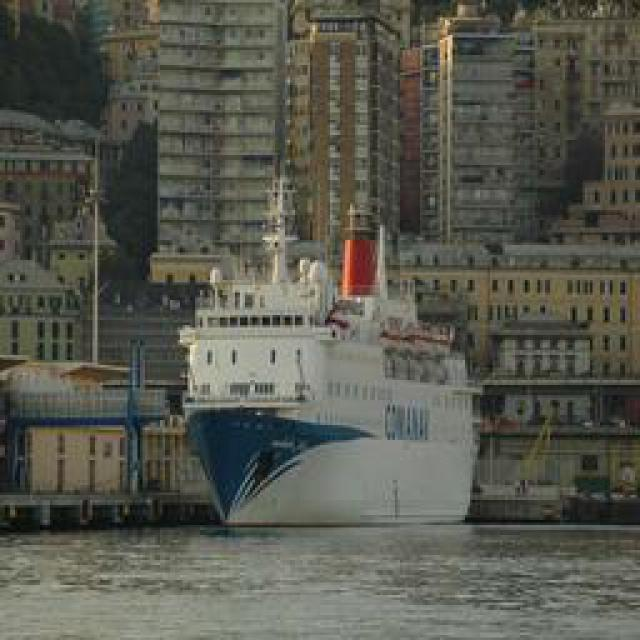Ship: (166, 165, 494, 536)
